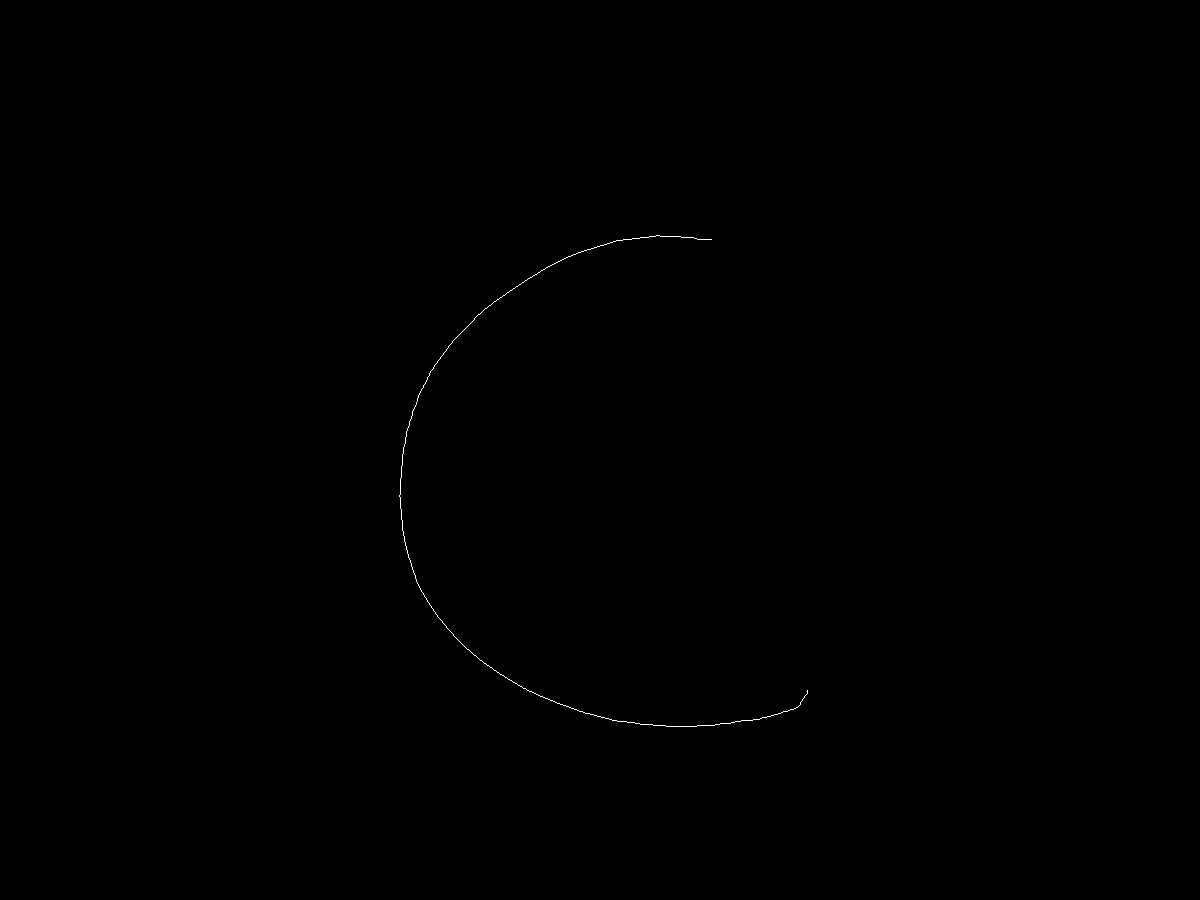dian1: (704, 233, 733, 256)
dian2: (795, 679, 819, 701)
